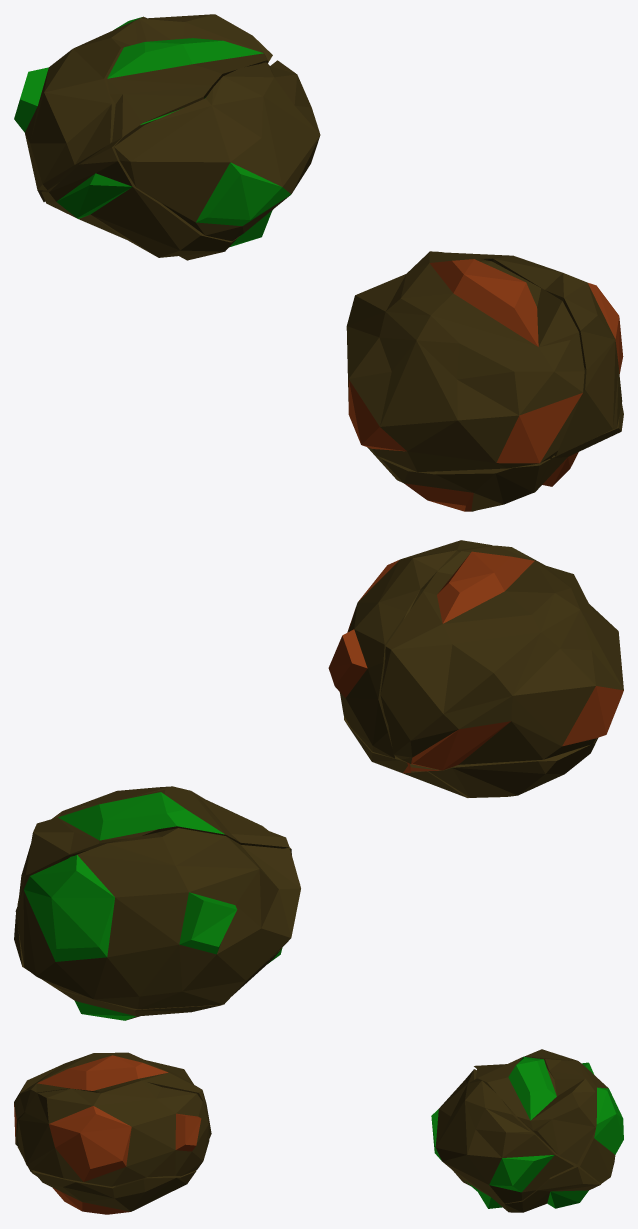
File: TestBreakingOresDecimated.fbx
The picture shows the model from 3 angles, top to bottom: view 1: azimuth 30°, elevation 25°; view 2: azimuth 150°, elevation 25°; view 3: azimuth 270°, elevation 25°; orthographic projection. The views are drawn at different scales.
Visible parts, largest first — view 1: Ore1Quarter3, Ore2Quarter4, Ore2Quarter1, Ore2Quarter2, Ore2Quarter3, Ore1Quarter4, Ore1Quarter1, Ore1Quarter2; view 2: Ore1Quarter3, Ore2Quarter2, Ore1Quarter4, Ore2Quarter1, Ore1Quarter1, Ore2Quarter3, Ore1Quarter2, Ore2Quarter4; view 3: Ore1Quarter4, Ore2Quarter4, Ore2Quarter1, Ore1Quarter3, Ore2Quarter2, Ore1Quarter2, Ore2Quarter3.
Boxes of the visible parts, <box> form: Ore1Quarter3: <box>346,251,584,471</box>; Ore2Quarter4: <box>114,60,320,241</box>; Ore2Quarter1: <box>107,14,272,142</box>; Ore2Quarter2: <box>14,16,146,201</box>; Ore2Quarter3: <box>41,137,272,260</box>; Ore1Quarter4: <box>446,252,623,456</box>; Ore1Quarter1: <box>367,447,550,511</box>; Ore1Quarter2: <box>472,403,623,511</box>; Ore1Quarter3: <box>380,545,623,770</box>; Ore2Quarter2: <box>15,828,300,1009</box>; Ore1Quarter4: <box>328,540,492,758</box>; Ore2Quarter1: <box>18,789,289,903</box>; Ore1Quarter1: <box>407,738,597,797</box>; Ore2Quarter3: <box>14,884,300,1020</box>; Ore1Quarter2: <box>344,716,469,797</box>; Ore2Quarter4: <box>17,786,291,905</box>; Ore1Quarter4: <box>17,1080,209,1186</box>; Ore2Quarter4: <box>431,1069,573,1203</box>; Ore2Quarter1: <box>474,1056,595,1164</box>; Ore1Quarter3: <box>14,1052,211,1148</box>; Ore2Quarter2: <box>524,1049,623,1183</box>; Ore1Quarter2: <box>30,1169,196,1214</box>; Ore2Quarter3: <box>456,1161,600,1212</box>.
Size of the model in its own units: 402 by 330 by 1243.
